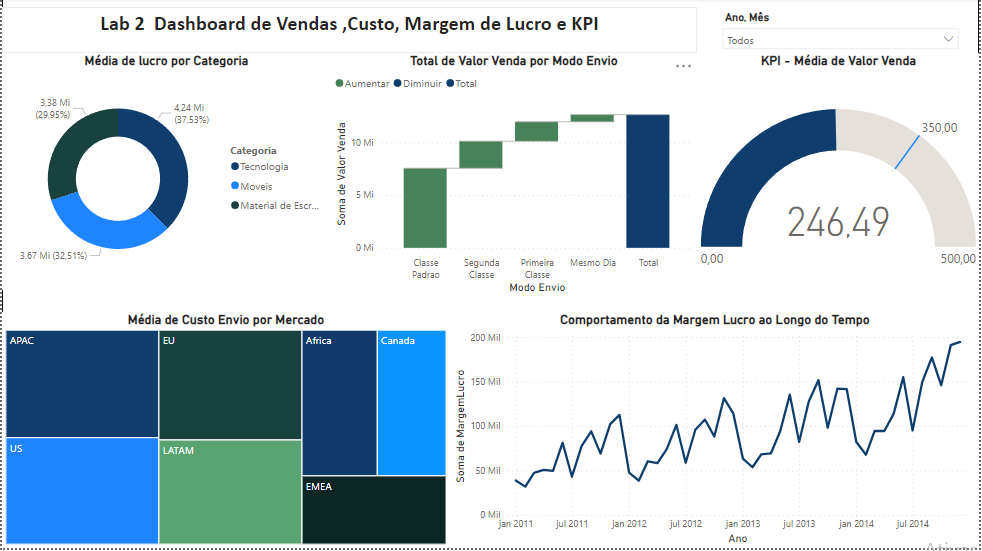

This screenshot's page, from the dashboard's own definition file:
{"tool":"powerbi","page":{"name":"Página 1","canvas":[1280,720],"ordinal":0},"visuals":[{"type":"waterfallChart","title":"Total de Valor Venda por Modo Envio","fields":{"Category":["Pedidos.Modo Envio"],"Y":["Sum(Vendas.Valor Venda)"]},"box":[430.7,72,479.1,319.4],"z":0},{"type":"treemap","fields":{"Group":["Clientes.Mercado"],"Values":["Avg(Vendas.Custo Envio)"]},"box":[0,411.1,586.5,308.9],"z":1},{"type":"gauge","title":"KPI - Média de Valor Venda","fields":{"Y":["Avg(Vendas.Valor Venda)"]},"box":[909.8,72,370.5,339.1],"z":2},{"type":"slicer","fields":{"Values":["Pedidos.Data Pedido.Variation.Hierarquia de datas.Ano","Pedidos.Data Pedido.Variation.Hierarquia de datas.Mês"]},"box":[933.4,11.8,328.6,60.2],"z":3},{"type":"donutChart","title":"Média de lucro por Categoria","fields":{"Category":["Produtos.Categoria"],"Y":["Sum(Vendas.Coluna)"]},"box":[0,72,430.7,310.3],"z":4},{"type":"lineChart","title":"Comportamento da Margem Lucro  ao Longo do Tempo","fields":{"Category":["Pedidos.Data Pedido.Variation.Hierarquia de datas.Ano","Pedidos.Data Pedido.Variation.Hierarquia de datas.Trimestre","Pedidos.Data Pedido.Variation.Hierarquia de datas.Mês"],"Y":["Sum(Vendas.MargemLucro)"]},"box":[586.5,411.1,693.8,308.9],"z":5},{"type":"textbox","box":[0,11.8,909.8,58.9],"z":6}]}

Visuals, with their boxes in screenshot pixels (x1, y1, x2, y2), scaled from the page's 1280x720 canvas onto the 982x551 screenshot:
"Total de Valor Venda por Modo Envio" waterfallChart: l=330, t=55, r=698, b=300
treemap - Clientes.Mercado x Avg(Vendas.Custo Envio): l=0, t=315, r=450, b=550
"KPI - Média de Valor Venda" gauge: l=698, t=55, r=981, b=315
slicer - Pedidos.Data Pedido.Variation.Hierarquia de datas.Ano x Pedidos.Data Pedido.Variation.Hierarquia de datas.Mês: l=716, t=9, r=968, b=55
"Média de lucro por Categoria" donutChart: l=0, t=55, r=330, b=293
"Comportamento da Margem Lucro  ao Longo do Tempo" lineChart: l=450, t=315, r=981, b=550
textbox: l=0, t=9, r=698, b=54
